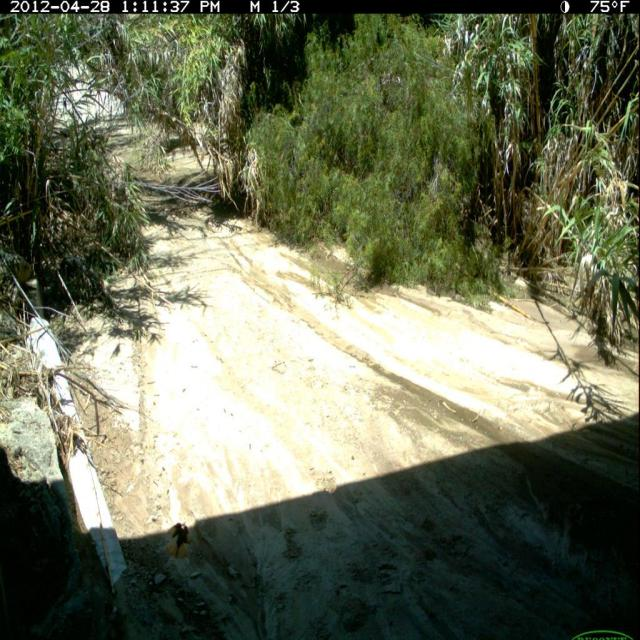bird: (166, 520, 194, 564)
